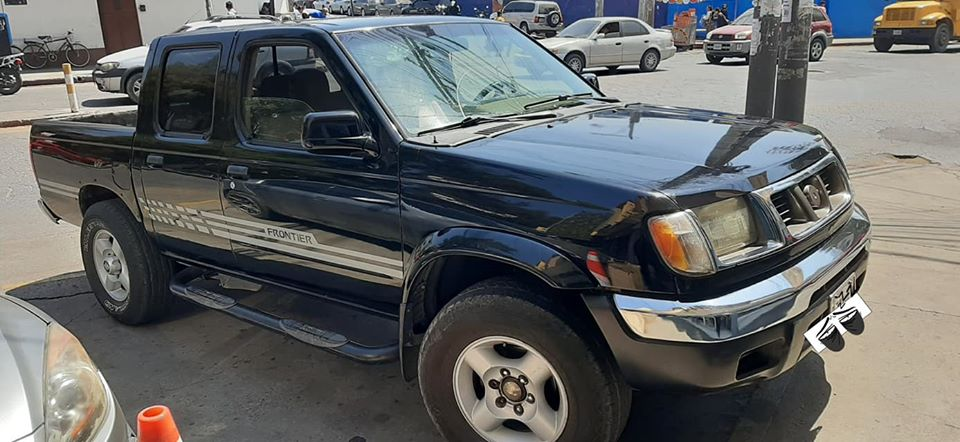pickup: (24, 17, 886, 440)
